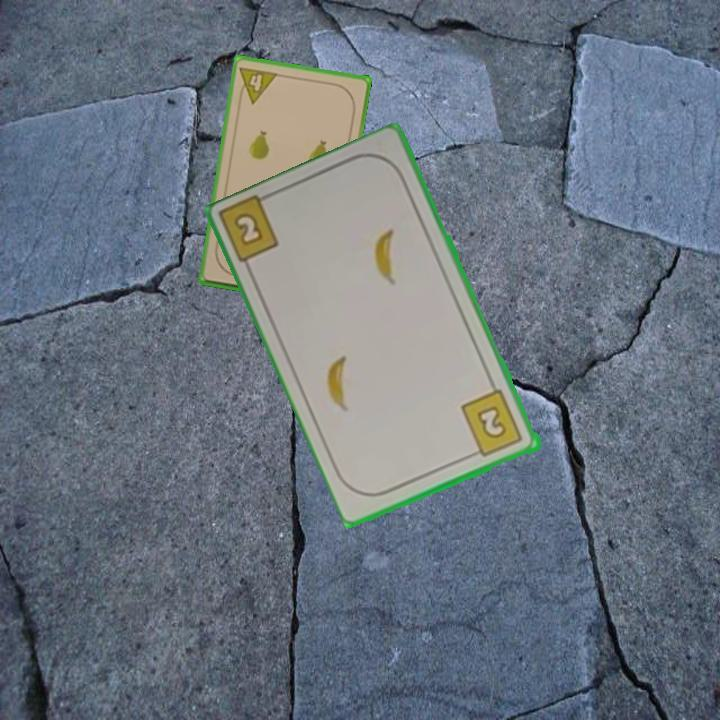2b: (458, 386, 526, 460), (230, 209, 267, 250)
4p: (234, 63, 280, 106)
